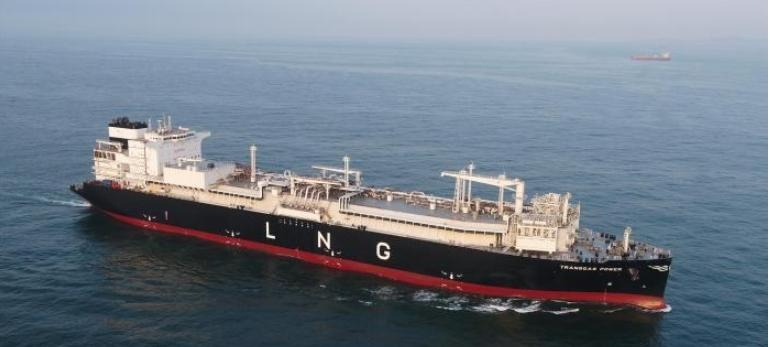Cargoship: (61, 109, 678, 319)
